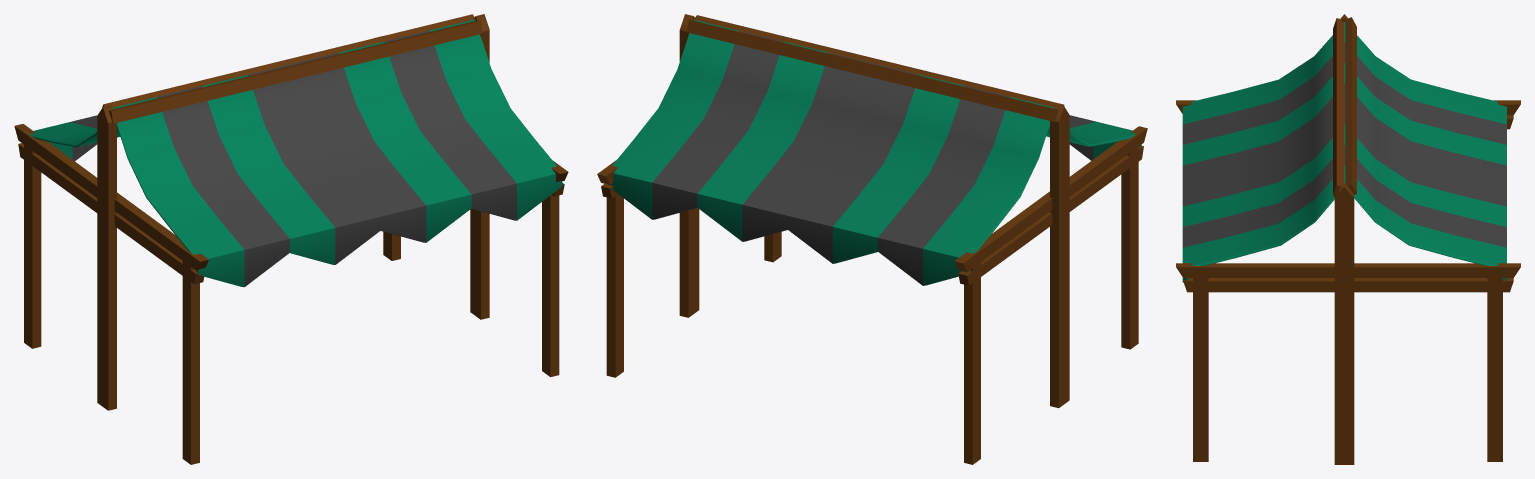
File: Mesh_Stall_1.fbx
3 renders of one model, left to right at view 1: azimuth 30°, elevation 25°; view 2: azimuth 150°, elevation 25°; view 3: azimuth 270°, elevation 25°, orthographic. The views are drawn at different scales.
Parts seen in each view (by area): view 1: Stall_1; view 2: Stall_1; view 3: Stall_1.
Boxes of the visible parts, <box> form: Stall_1: <box>14,14,568,464</box>; Stall_1: <box>597,14,1147,464</box>; Stall_1: <box>1176,14,1520,464</box>.
Bounding box in the file's own units: 379 × 284 × 320.
1 material, 1 textured.
